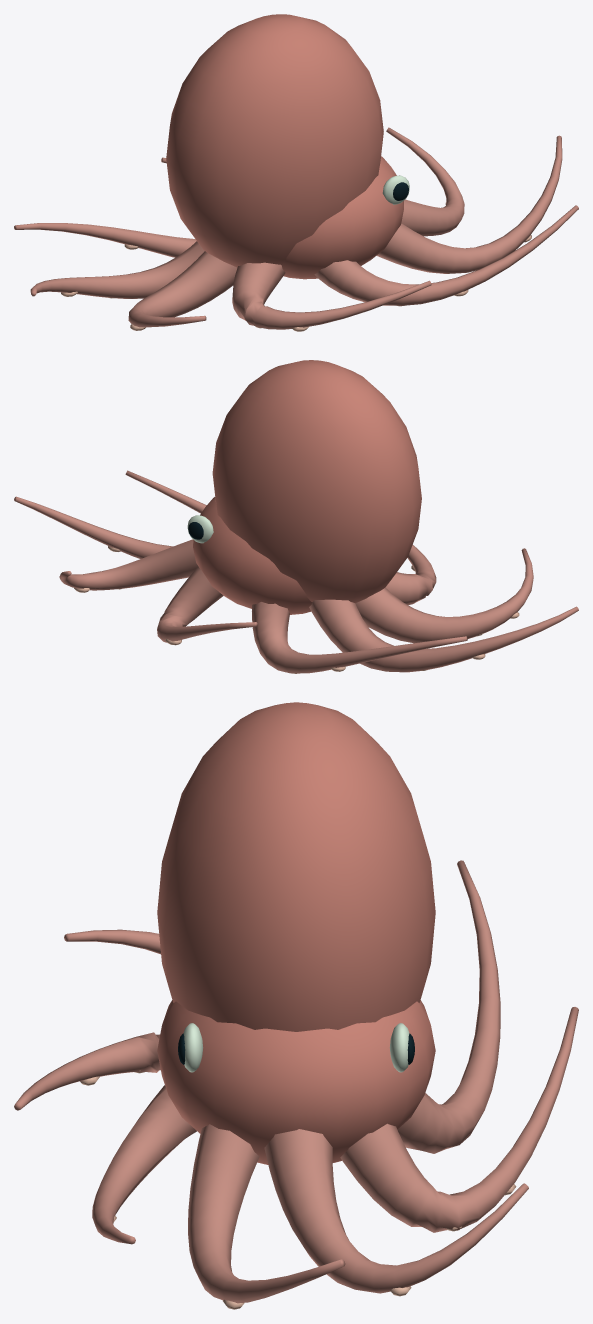
File: octopus.glb
The picture shows the model from 3 angles, top to bottom: view 1: azimuth 30°, elevation 25°; view 2: azimuth 150°, elevation 25°; view 3: azimuth 270°, elevation 25°; orthographic projection. The views are drawn at different scales.
Visible parts, largest first — view 1: Octopus; view 2: Octopus; view 3: Octopus.
Part boxes in pixels (x1=…): Octopus: x1=14, y1=14, x2=578, y2=331; Octopus: x1=14, y1=360, x2=578, y2=673; Octopus: x1=14, y1=702, x2=578, y2=1309.
Bounding box in the file's own units: 2.34 × 1.11 × 1.3.
